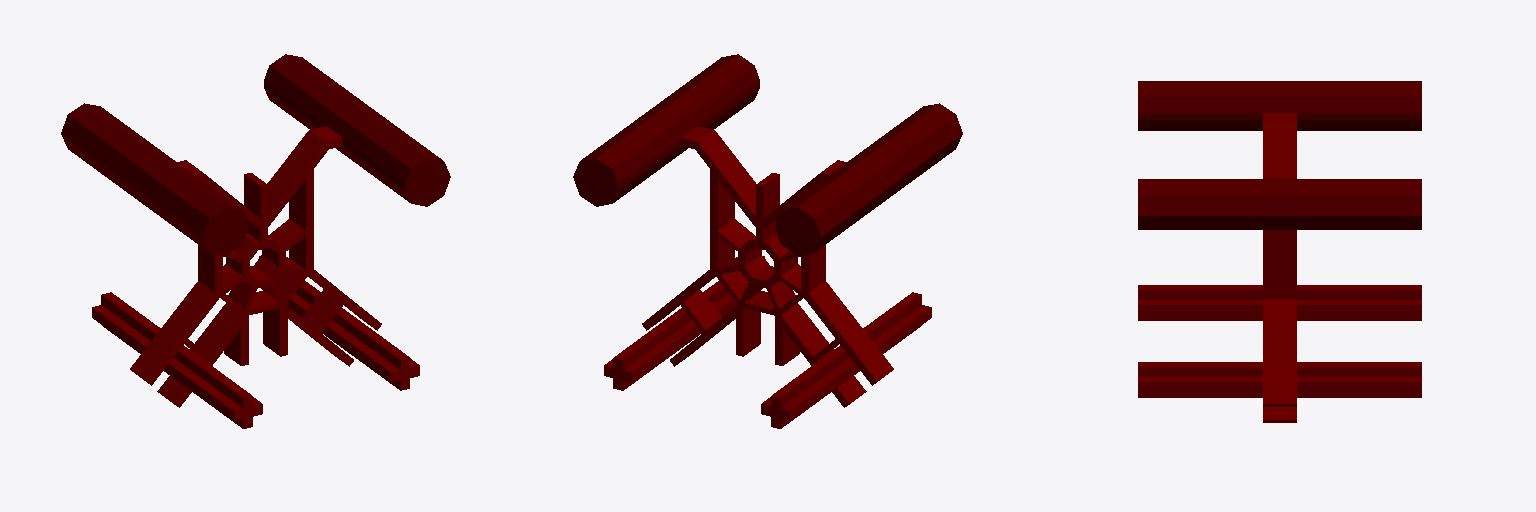
Rendered from knex.obj.
3 views of the same model, side by side, from view 1: azimuth 30°, elevation 25°; view 2: azimuth 150°, elevation 25°; view 3: azimuth 270°, elevation 25° (orthographic).
Bounding box in the file's own units: 1.67 × 1.61 × 1.65.